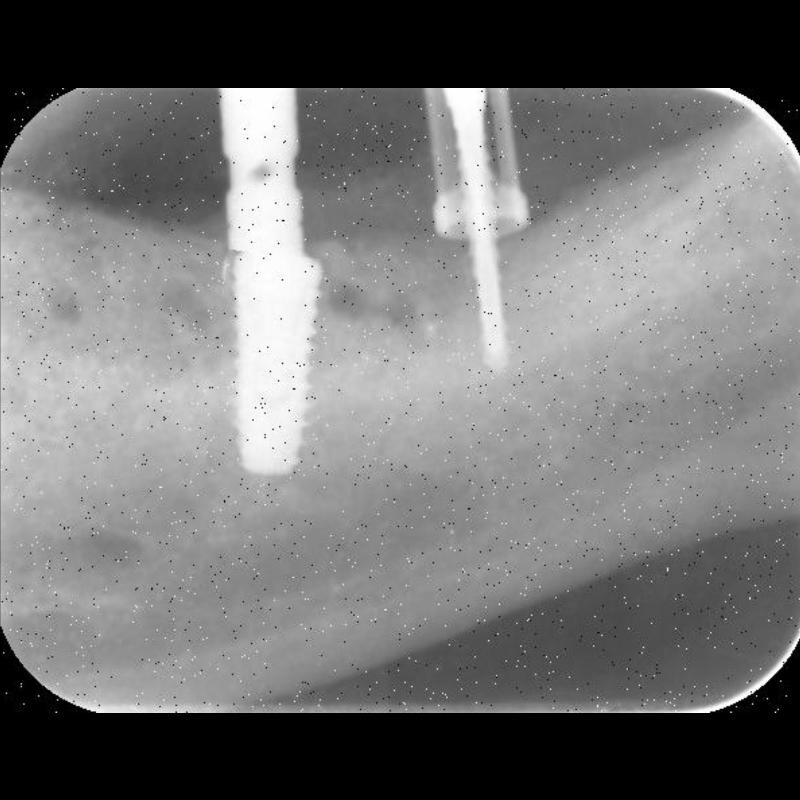Dentium: (212, 254, 326, 480)
